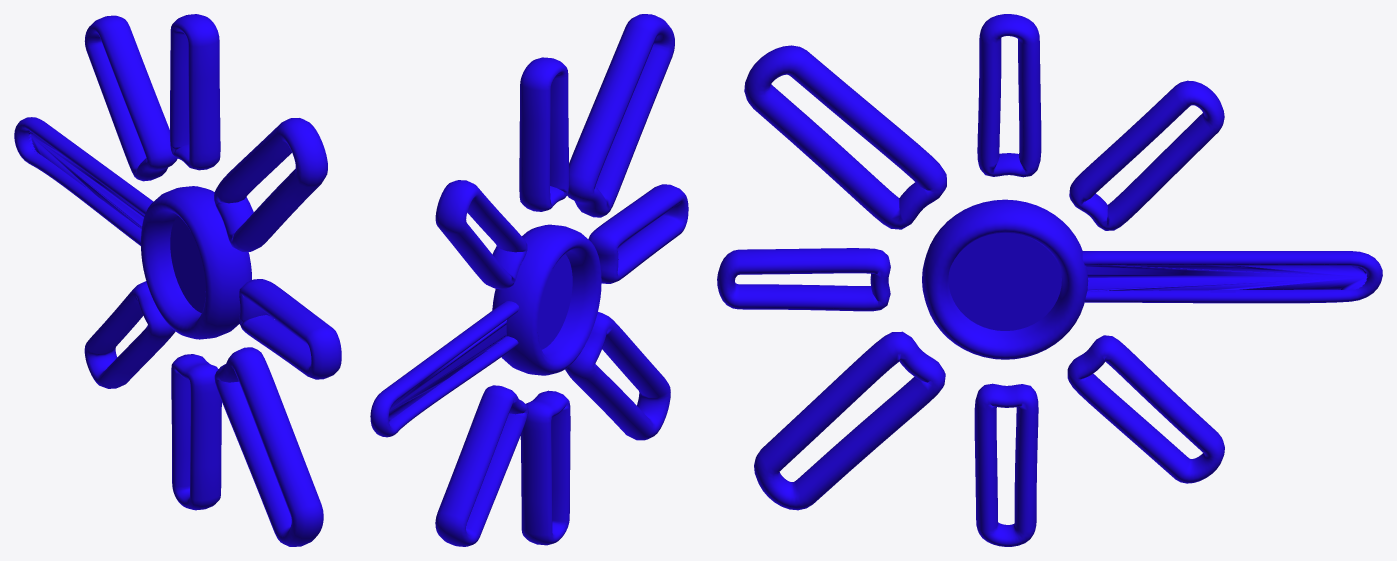
Rendered from Neon Laser.fbx.
The picture shows the model from 3 angles, left to right: view 1: azimuth 30°, elevation 25°; view 2: azimuth 150°, elevation 25°; view 3: azimuth 270°, elevation 25°; orthographic projection. The views are drawn at different scales.
Visible parts, largest first — view 1: BézierCurve.016; view 2: BézierCurve.016; view 3: BézierCurve.016.
Part boxes in pixels (x1,y1,x2,y2): BézierCurve.016: (14,14,341,546); BézierCurve.016: (370,14,688,546); BézierCurve.016: (717,14,1382,546).
Bounding box in the file's own units: 18.07 × 182 × 209.
